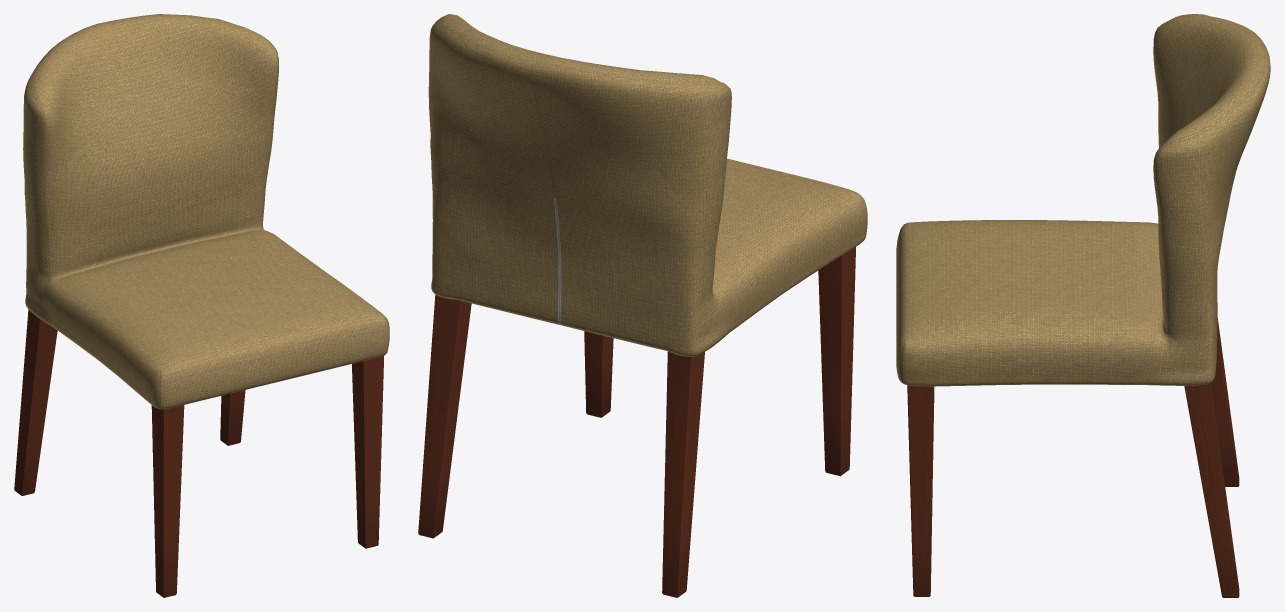
Rendered from dining-chair-curved.glb.
3 views of the same model, side by side, from view 1: azimuth 30°, elevation 25°; view 2: azimuth 150°, elevation 25°; view 3: azimuth 270°, elevation 25° (orthographic). The views are drawn at different scales.
Visible parts, largest first — view 1: RootNode; view 2: RootNode; view 3: RootNode.
Boxes of the visible parts, x1,y1,x2,y2 form: RootNode: (14,14,389,597); RootNode: (418,14,867,597); RootNode: (896,14,1270,597).
Bounding box in the file's own units: 0.49 × 0.84 × 0.59.
1 material, 1 textured.
